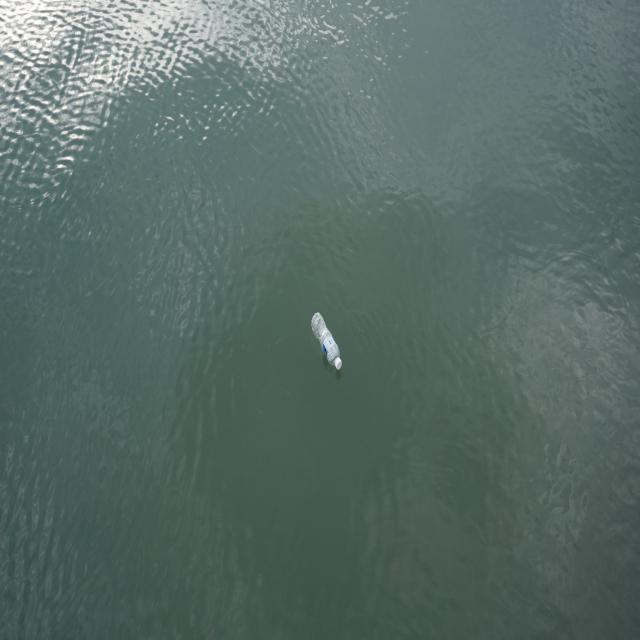Botol Plastik: (310, 307, 348, 380)
